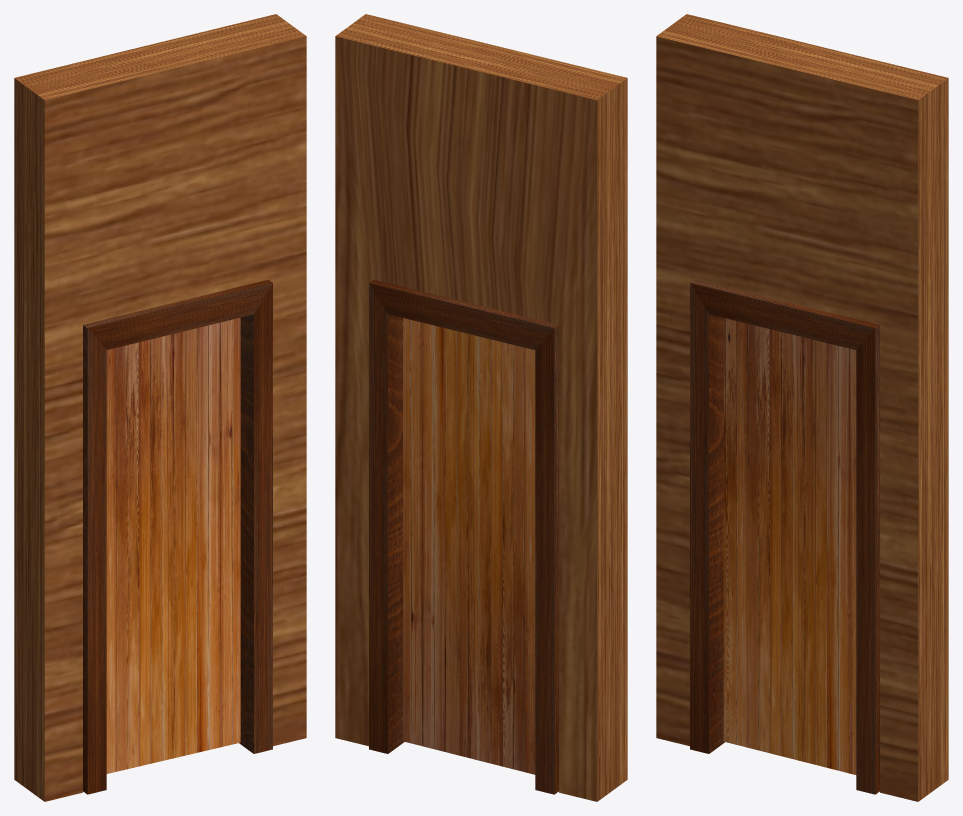
Rendered from wood_wall_door.fbx.
3 renders of one model, left to right at view 1: azimuth 30°, elevation 25°; view 2: azimuth 150°, elevation 25°; view 3: azimuth 330°, elevation 25°, orthographic.
Parts seen in each view (by area): view 1: brick_wall.003, door.003, door_frame.002; view 2: brick_wall.003, door.003, door_frame.002; view 3: brick_wall.003, door.003, door_frame.002.
Part boxes in pixels (x1=…): brick_wall.003: x1=14, y1=14, x2=306, y2=801; door.003: x1=106, y1=317, x2=240, y2=773; door_frame.002: x1=83, y1=279, x2=272, y2=794; brick_wall.003: x1=335, y1=14, x2=627, y2=801; door.003: x1=403, y1=318, x2=535, y2=774; door_frame.002: x1=369, y1=279, x2=558, y2=794; brick_wall.003: x1=656, y1=14, x2=948, y2=801; door.003: x1=723, y1=318, x2=856, y2=774; door_frame.002: x1=690, y1=279, x2=879, y2=794.
Size of the model in its own units: 159 by 407 by 41.69.
Materials: 3 (3 with a texture image).
